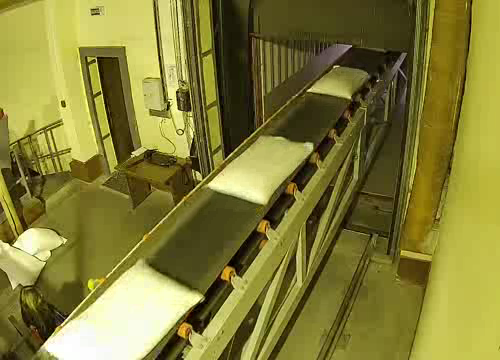bag: (39, 254, 211, 360), (206, 132, 319, 205), (305, 64, 377, 103), (352, 44, 388, 56)
